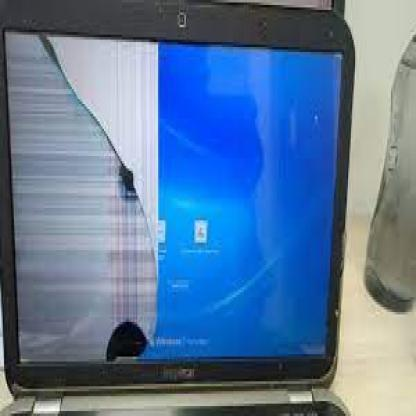crack: (4, 27, 162, 374)
lines: (17, 116, 98, 248)
spot: (100, 312, 151, 369), (115, 151, 143, 213)
